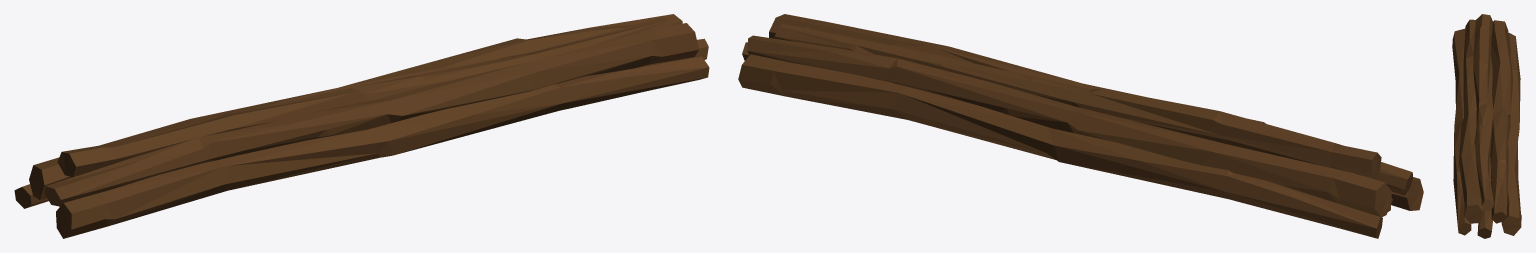
File: tree-birch-log-pile-a.gltf
3 renders of one model, left to right at view 1: azimuth 30°, elevation 25°; view 2: azimuth 150°, elevation 25°; view 3: azimuth 270°, elevation 25°, orthographic. The views are drawn at different scales.
Visible parts, largest first — view 1: tree-birch-log-pile-a; view 2: tree-birch-log-pile-a; view 3: tree-birch-log-pile-a.
Boxes of the visible parts, x1,y1,x2,y2 form: tree-birch-log-pile-a: (14,14,709,238); tree-birch-log-pile-a: (738,14,1423,238); tree-birch-log-pile-a: (1452,14,1521,238).
Bounding box in the file's own units: 0.0505 × 0.00486 × 0.00753.
